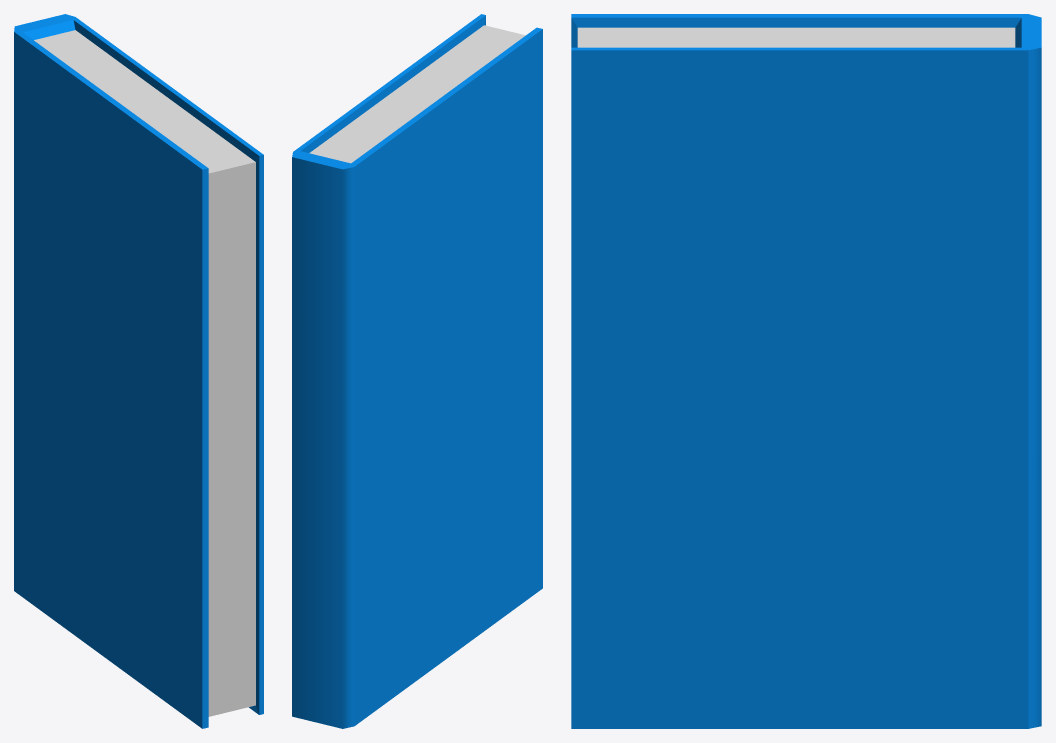
Rendered from LibroAzul.fbx.
3 renders of one model, left to right at view 1: azimuth 30°, elevation 25°; view 2: azimuth 150°, elevation 25°; view 3: azimuth 270°, elevation 25°, orthographic. The views are drawn at different scales.
Visible parts, largest first — view 1: pCube12; view 2: pCube12; view 3: pCube12.
Boxes of the visible parts, box(x1,y1,x2,y2) form: pCube12: box(14, 14, 263, 728); pCube12: box(292, 14, 542, 728); pCube12: box(571, 14, 1041, 728).
Bounding box in the file's own units: 0.1092 × 0.9506 × 0.5973.
Materials: 2 (1 with a texture image).
